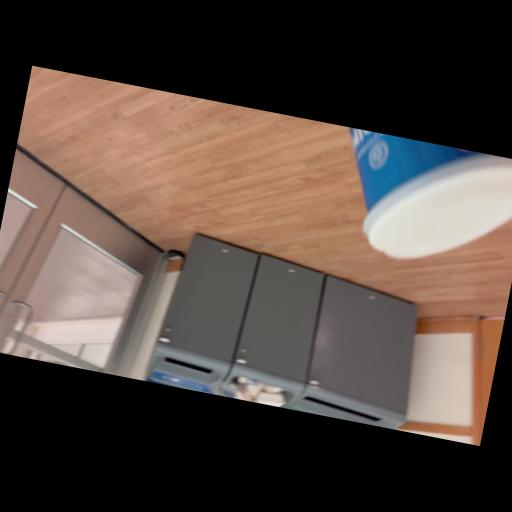lp_paper_cup: (311, 125, 512, 294)
